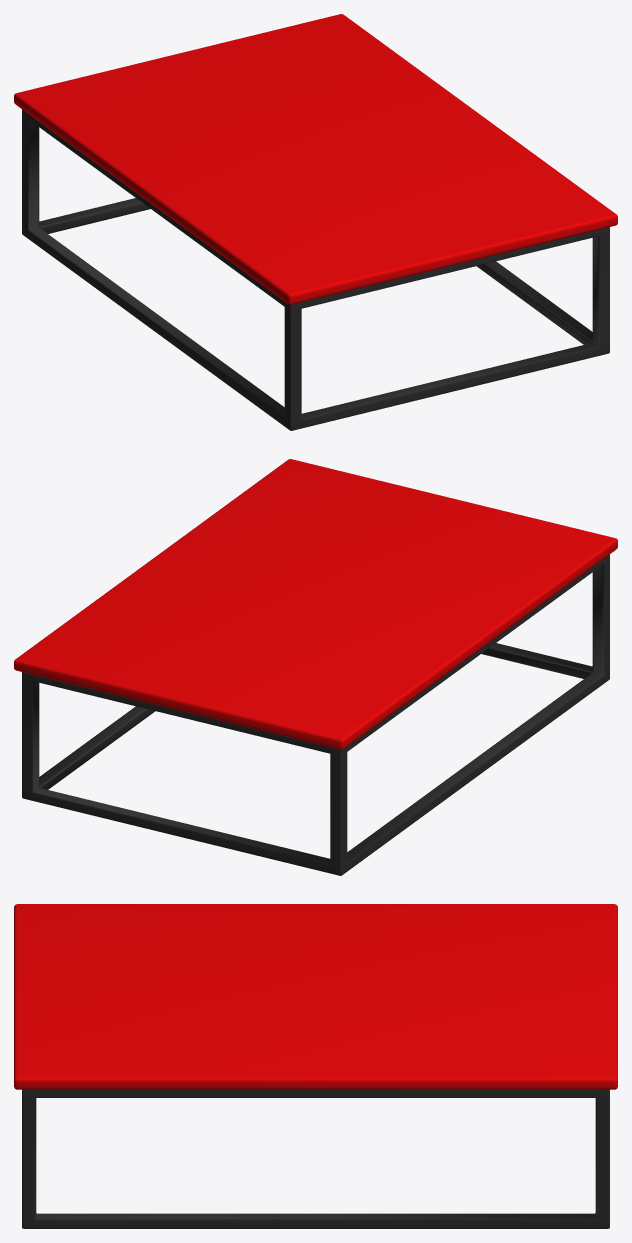
The model's file is Table.fbx.
3 renders of one model, top to bottom at view 1: azimuth 30°, elevation 25°; view 2: azimuth 150°, elevation 25°; view 3: azimuth 270°, elevation 25°, orthographic. The views are drawn at different scales.
Parts seen in each view (by area): view 1: coffeTable; view 2: coffeTable; view 3: coffeTable.
Boxes of the visible parts, left/top/right/bottom form: coffeTable: left=14, top=14, right=617, bottom=430; coffeTable: left=14, top=459, right=617, bottom=875; coffeTable: left=14, top=904, right=617, bottom=1228.
Bounding box in the file's own units: 154 × 62.58 × 223.
